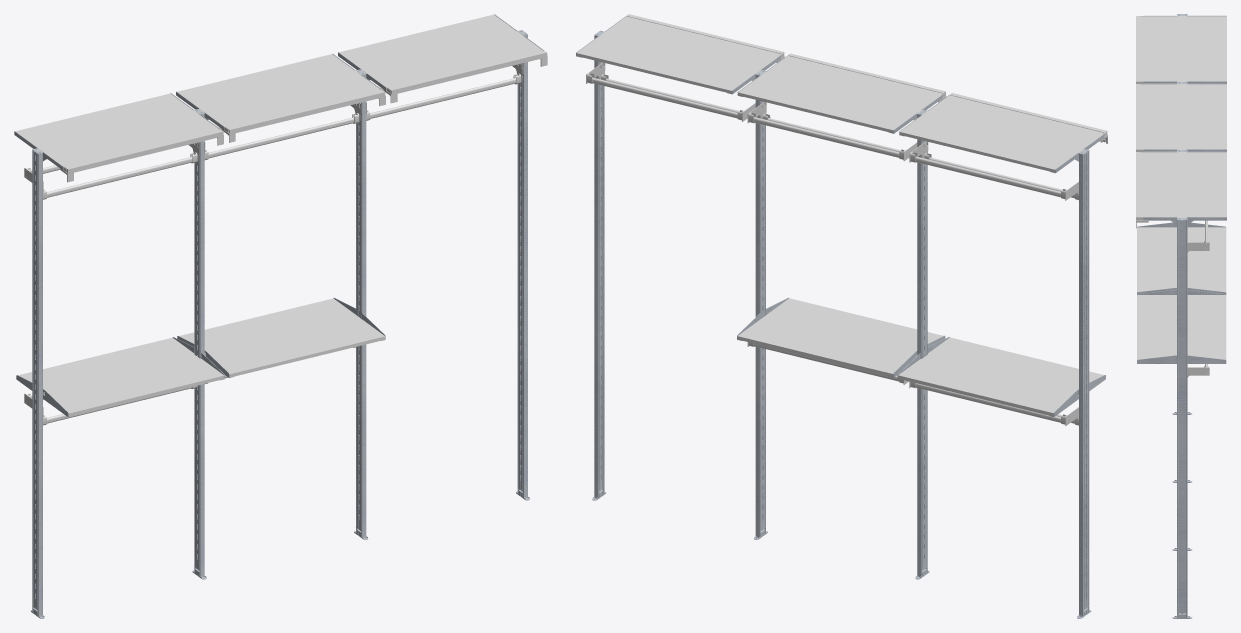
The picture shows the model from 3 angles, left to right: view 1: azimuth 30°, elevation 25°; view 2: azimuth 150°, elevation 25°; view 3: azimuth 270°, elevation 25°; orthographic projection. The views are drawn at different scales.
Parts seen in each view (by area): view 1: Geom3D (×4), Geom3D_Geom3D_组件#15_木层板（中间） copy 002_Defintion14_Geom3D_组件#1 (×2), Geom3D_Geom3D_组件#16_Defintion23_Geom3D_组件#16, Geom3D_Geom3D_组件#16_Defintion#21_Geom3D_组件#16, Geom3D_Geom3D_组件#16_Defintion16_Geom3D_组件#16, Geom3D_Geom3D_组件#11_双衣杆 copy 002_Defintion17_Geom3D_组件#11_双衣, Geom3D_Geom3D_组件#11_双衣杆 copy 002_Defintion24_Geom3D_组件#11_双衣, Geom3D_Geom3D_组件#11_双衣杆 copy 002_Defintion25_Geom3D_组件#11_双衣; view 2: Geom3D (×4), Geom3D_Geom3D_组件#15_木层板（中间） copy 002_Defintion14_Geom3D_组件#1 (×2), Geom3D_Geom3D_组件#16_Defintion16_Geom3D_组件#16, Geom3D_Geom3D_组件#16_Defintion#21_Geom3D_组件#16, Geom3D_Geom3D_组件#16_Defintion23_Geom3D_组件#16, Geom3D_Geom3D_组件#11_双衣杆 copy 002_Defintion17_Geom3D_组件#11_双衣, Geom3D_Geom3D_组件#11_双衣杆 copy 002_Defintion24_Geom3D_组件#11_双衣, Geom3D_Geom3D_组件#11_双衣杆 copy 002_Defintion25_Geom3D_组件#11_双衣, Geom3D_Geom3D_组件#11_双衣杆 copy 002_Defintion5_Geom3D_组件#11_双衣杆; view 3: Geom3D_Geom3D_组件#15_木层板（中间） copy 002_Defintion14_Geom3D_组件#1 (×2), Geom3D (×6), Geom3D_Geom3D_组件#16_Defintion23_Geom3D_组件#16, Geom3D_Geom3D_组件#16_Defintion16_Geom3D_组件#16, Geom3D_Geom3D_组件#16_Defintion#21_Geom3D_组件#16, Geom3D_Geom3D_组件#11_双衣杆 copy 002_Defintion25_Geom3D_组件#11_双衣, Geom3D_Geom3D_组件#11_双衣杆 copy 002_Defintion4_Geom3D_组件#11_双衣杆.
Part boxes in pixels (box(x1,y1,x2,y2)): Geom3D (×4): box(30, 30, 529, 618); Geom3D_Geom3D_组件#15_木层板（中间） copy 002_Defintion14_Geom3D_组件#1 (×2): box(18, 298, 385, 416); Geom3D_Geom3D_组件#16_Defintion23_Geom3D_组件#16: box(339, 14, 547, 103); Geom3D_Geom3D_组件#16_Defintion#21_Geom3D_组件#16: box(177, 54, 385, 142); Geom3D_Geom3D_组件#16_Defintion16_Geom3D_组件#16: box(15, 93, 223, 182); Geom3D_Geom3D_组件#11_双衣杆 copy 002_Defintion17_Geom3D_组件#11_双衣: box(24, 142, 199, 199); Geom3D_Geom3D_组件#11_双衣杆 copy 002_Defintion24_Geom3D_组件#11_双衣: box(204, 103, 361, 160); Geom3D_Geom3D_组件#11_双衣杆 copy 002_Defintion25_Geom3D_组件#11_双衣: box(366, 63, 523, 120); Geom3D (×4): box(592, 30, 1091, 618); Geom3D_Geom3D_组件#15_木层板（中间） copy 002_Defintion14_Geom3D_组件#1 (×2): box(737, 298, 1103, 416); Geom3D_Geom3D_组件#16_Defintion16_Geom3D_组件#16: box(899, 93, 1107, 172); Geom3D_Geom3D_组件#16_Defintion#21_Geom3D_组件#16: box(738, 53, 946, 133); Geom3D_Geom3D_组件#16_Defintion23_Geom3D_组件#16: box(576, 14, 784, 93); Geom3D_Geom3D_组件#11_双衣杆 copy 002_Defintion17_Geom3D_组件#11_双衣: box(909, 141, 1078, 200); Geom3D_Geom3D_组件#11_双衣杆 copy 002_Defintion24_Geom3D_组件#11_双衣: box(747, 102, 917, 161); Geom3D_Geom3D_组件#11_双衣杆 copy 002_Defintion25_Geom3D_组件#11_双衣: box(586, 62, 755, 121); Geom3D_Geom3D_组件#11_双衣杆 copy 002_Defintion5_Geom3D_组件#11_双衣杆: box(909, 381, 1078, 426); Geom3D_Geom3D_组件#15_木层板（中间） copy 002_Defintion14_Geom3D_组件#1 (×2): box(1137, 227, 1226, 359); Geom3D (×6): box(1137, 15, 1226, 618); Geom3D_Geom3D_组件#16_Defintion23_Geom3D_组件#16: box(1136, 151, 1226, 228); Geom3D_Geom3D_组件#16_Defintion16_Geom3D_组件#16: box(1136, 15, 1226, 83); Geom3D_Geom3D_组件#16_Defintion#21_Geom3D_组件#16: box(1136, 83, 1226, 151); Geom3D_Geom3D_组件#11_双衣杆 copy 002_Defintion25_Geom3D_组件#11_双衣: box(1187, 220, 1209, 252); Geom3D_Geom3D_组件#11_双衣杆 copy 002_Defintion4_Geom3D_组件#11_双衣杆: box(1187, 364, 1209, 377).
Bounding box in the file's own units: 2.73 × 2.47 × 0.5082.
Materials: 2 (2 with a texture image).
